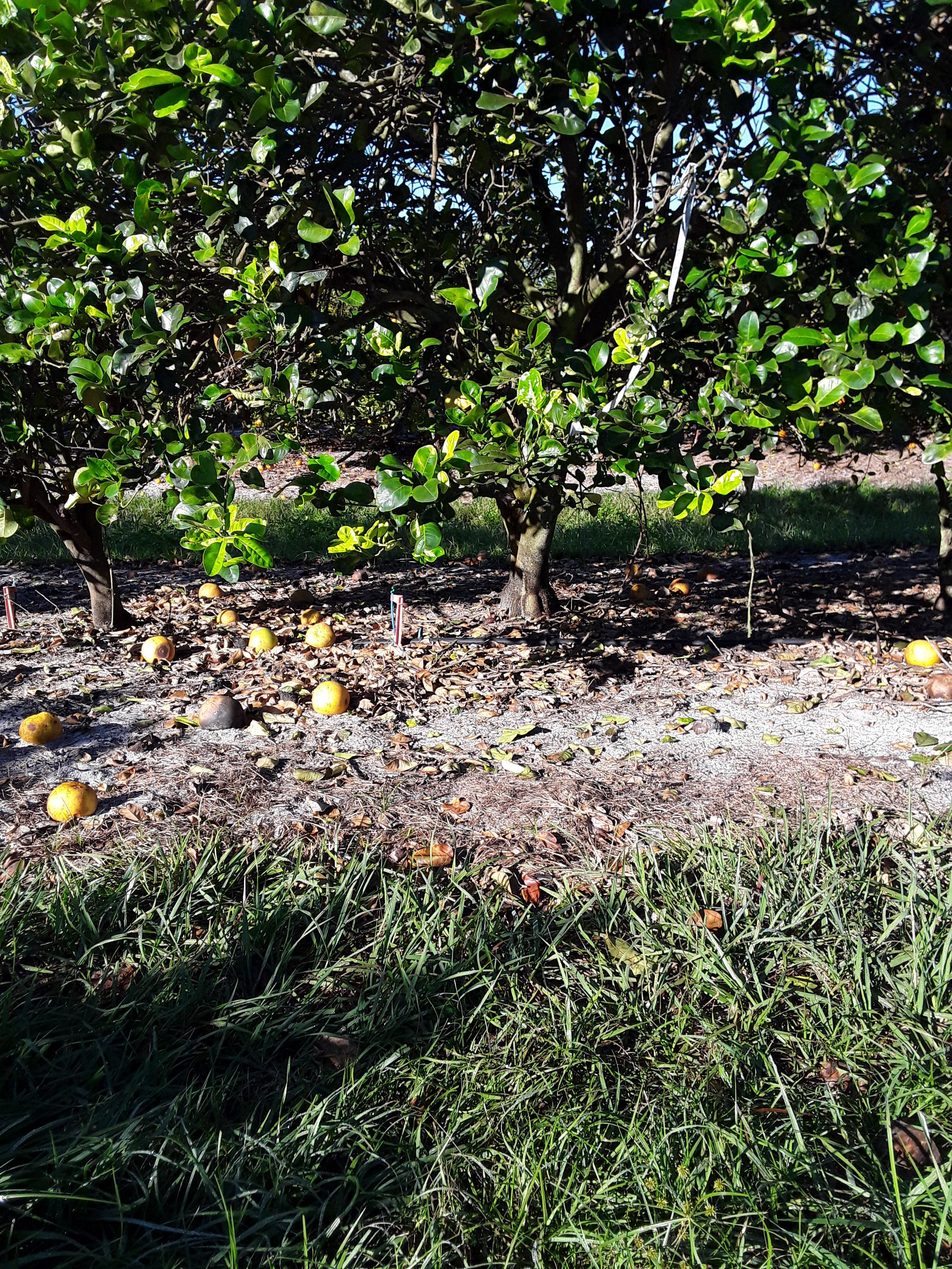fruit_on_ground: (208, 315, 267, 360), (76, 376, 120, 422), (439, 383, 485, 425), (276, 269, 332, 301)
fruit_on_tree: (195, 692, 250, 732), (16, 708, 67, 748), (46, 775, 83, 822), (312, 679, 352, 718), (903, 635, 946, 671), (893, 1130, 928, 1173), (138, 635, 178, 664), (305, 622, 338, 651), (248, 626, 276, 658), (923, 673, 952, 702), (294, 607, 326, 629), (199, 579, 221, 603), (215, 605, 237, 629), (628, 584, 653, 605), (290, 590, 317, 608), (670, 576, 691, 597), (697, 568, 725, 583), (621, 563, 646, 579), (350, 569, 375, 585), (474, 549, 495, 564), (870, 554, 888, 568), (905, 439, 919, 452), (264, 461, 275, 471), (813, 460, 822, 472), (256, 462, 265, 472), (778, 430, 787, 438), (295, 459, 302, 467), (155, 478, 161, 485), (281, 495, 286, 501)
